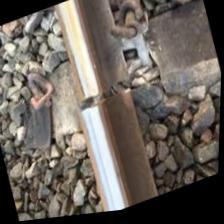person: (62, 55, 139, 143)
